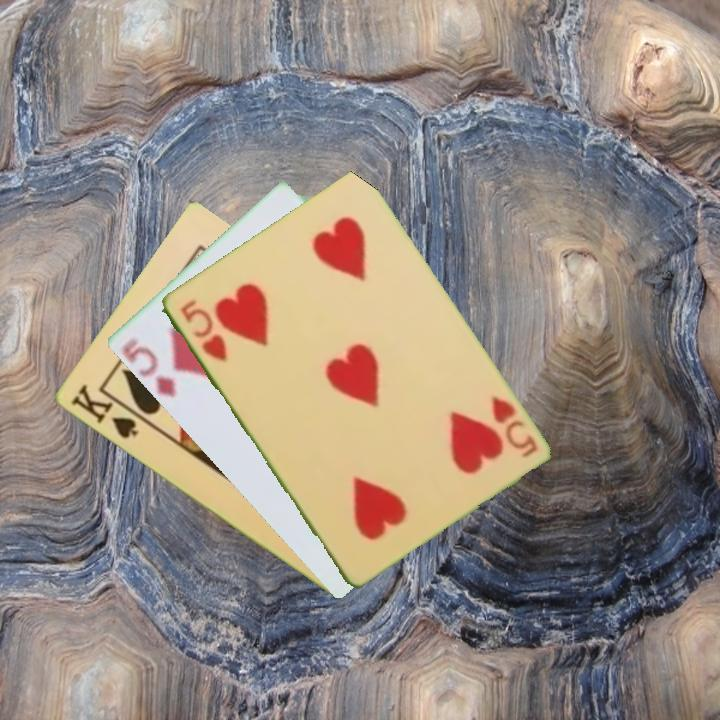5d: (118, 334, 178, 401)
5h: (176, 295, 230, 365), (487, 391, 540, 461)
Ks: (66, 380, 141, 442)
